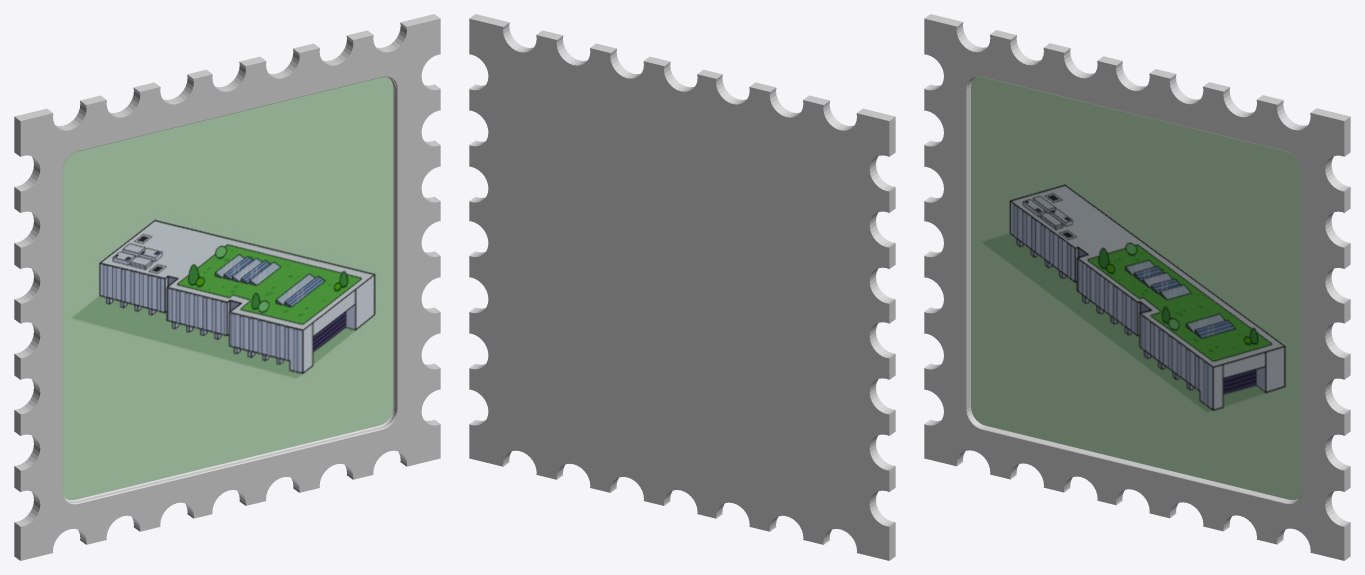
File: B_Olivia_05.glb
3 renders of one model, left to right at view 1: azimuth 30°, elevation 25°; view 2: azimuth 150°, elevation 25°; view 3: azimuth 330°, elevation 25°, orthographic.
Parts seen in each view (by area): view 1: Plane003, Plane001; view 2: Plane001; view 3: Plane003, Plane001.
Part boxes in pixels (x1,y1,x2,y2): Plane003: (63,77,393,500); Plane001: (14,14,440,560); Plane001: (469,14,895,560); Plane003: (971,77,1301,499); Plane001: (924,14,1350,560).
Size of the model in its own units: 0.3 by 0.3 by 0.00781.
2 materials, 1 textured.
